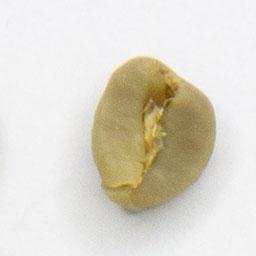premium: (85, 50, 220, 215)
